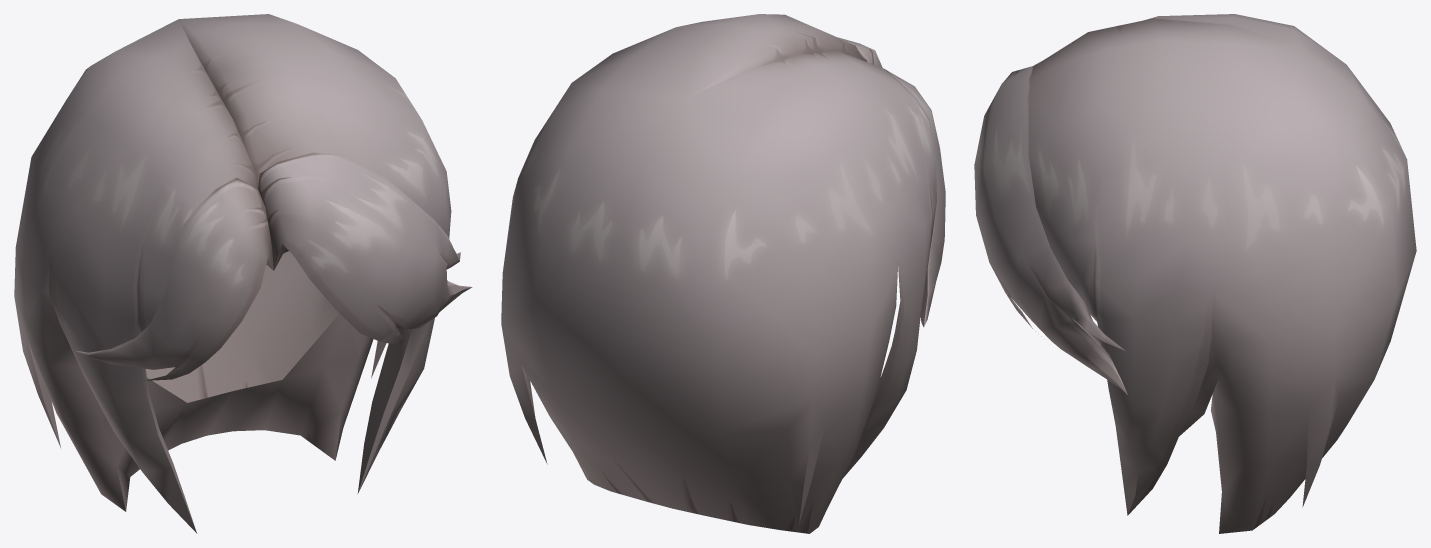
Rendered from hair_f_short_4.fbx.
3 renders of one model, left to right at view 1: azimuth 30°, elevation 25°; view 2: azimuth 150°, elevation 25°; view 3: azimuth 270°, elevation 25°, orthographic. The views are drawn at different scales.
Parts seen in each view (by area): view 1: hair_f_short_4; view 2: hair_f_short_4; view 3: hair_f_short_4.
Boxes of the visible parts, x1,y1,x2,y2 form: hair_f_short_4: (14,14,472,533); hair_f_short_4: (501,14,945,533); hair_f_short_4: (974,14,1416,533).
Size of the model in its own units: 25.6 by 29.47 by 26.29.
